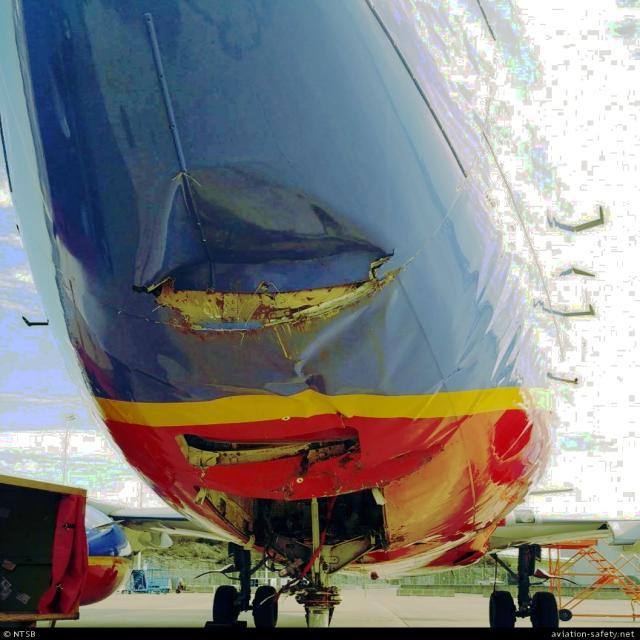dent: (144, 175, 396, 280), (296, 309, 380, 369)
